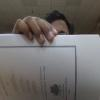notebook: (0, 33, 99, 99)
